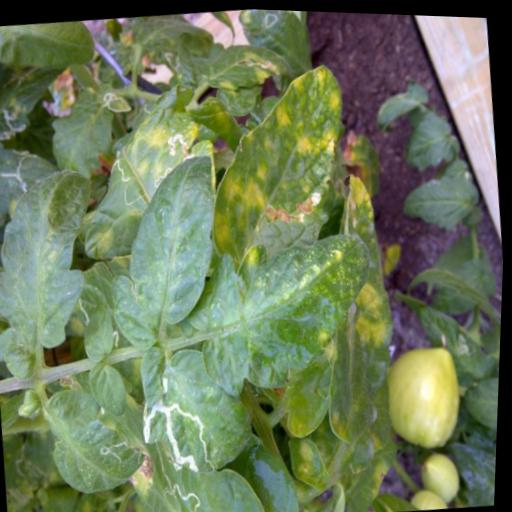Leaf Mold: (178, 220, 395, 405), (196, 56, 359, 258), (304, 164, 414, 457), (98, 150, 230, 353), (0, 162, 112, 383)
Leaf_Miner: (134, 333, 277, 512), (36, 370, 160, 506)
